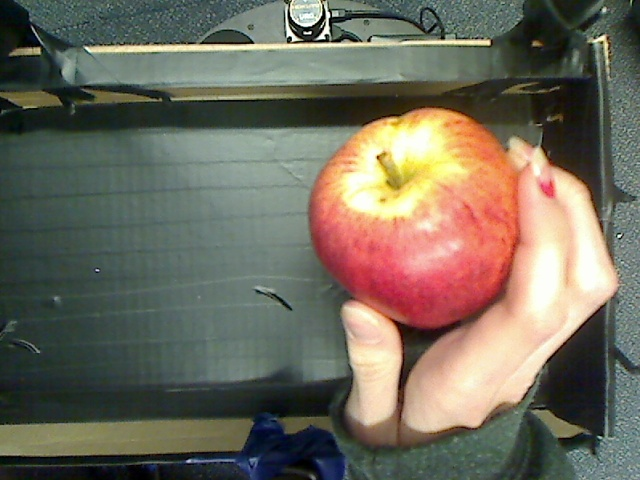apple: (306, 97, 524, 339)
